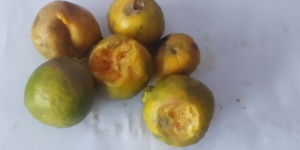BAD: (21, 56, 99, 129), (20, 1, 103, 60), (142, 80, 216, 146), (89, 31, 154, 99), (107, 1, 168, 50), (142, 33, 197, 81)
